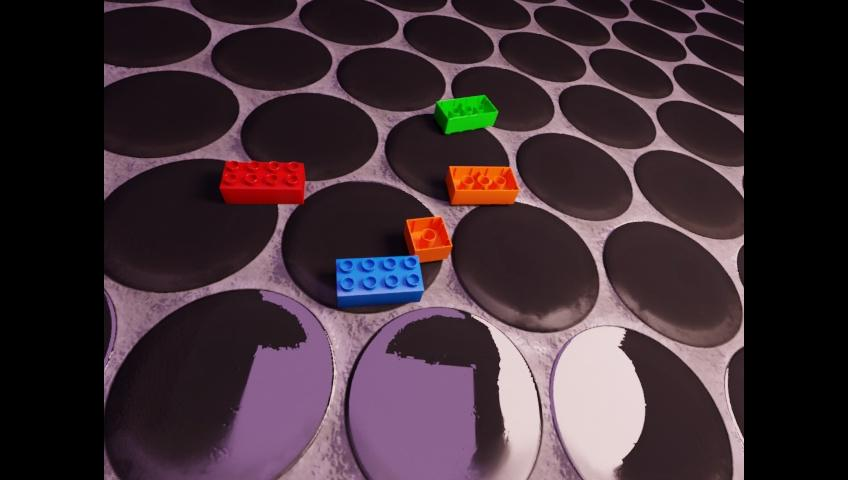2x2_orange: (405, 216, 452, 262)
4x2_blue: (336, 255, 423, 307)
4x2_green: (433, 94, 496, 133)
4x2_orange: (445, 165, 519, 204)
4x2_red: (220, 161, 305, 203)
